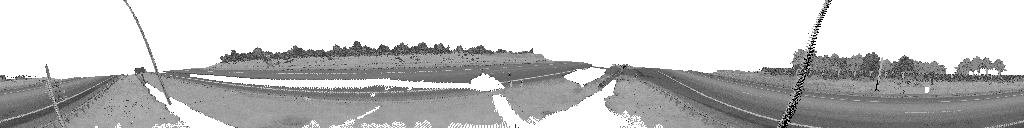light_pole: (777, 0, 832, 126), (122, 0, 172, 103), (45, 66, 62, 126), (46, 80, 62, 125)
